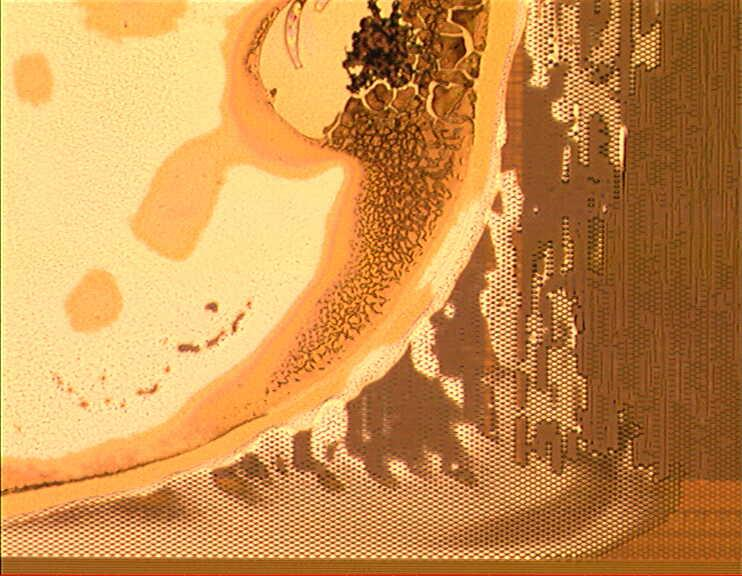BLOCK ETCH: (1, 1, 689, 562)
